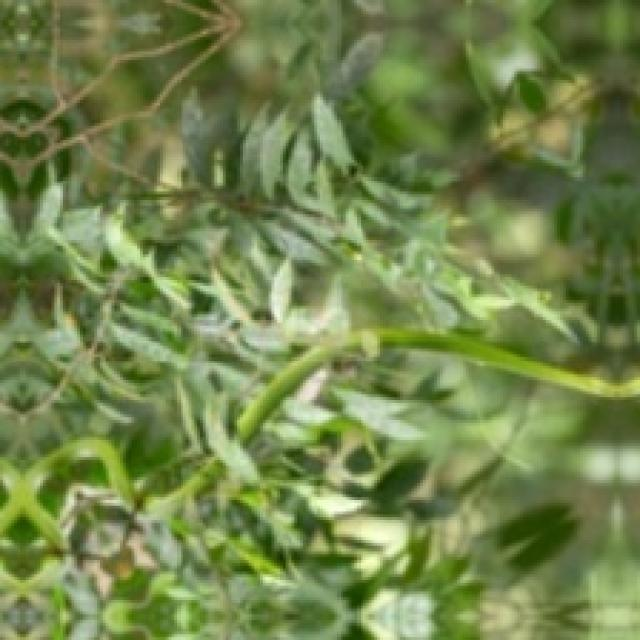red-tailed green ratsnake: (235, 330, 640, 444), (0, 438, 135, 552), (146, 458, 225, 515)
